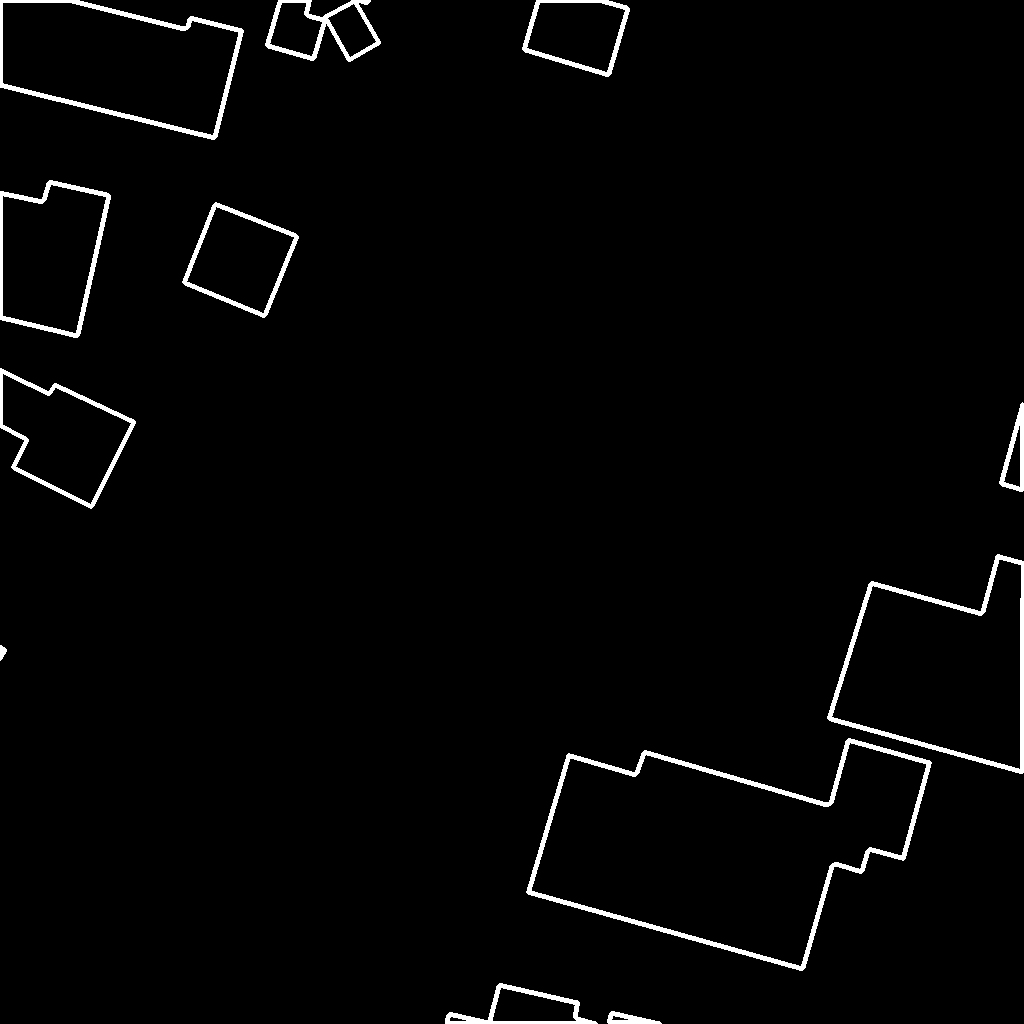building: (528, 740, 931, 970), (829, 556, 1024, 773), (0, 0, 243, 139), (0, 370, 135, 508), (0, 182, 110, 337), (184, 204, 298, 317), (447, 985, 661, 1024), (524, 0, 629, 76), (267, 0, 326, 60), (325, 1, 380, 61), (1001, 403, 1024, 491), (0, 647, 6, 660), (356, 0, 370, 4)
